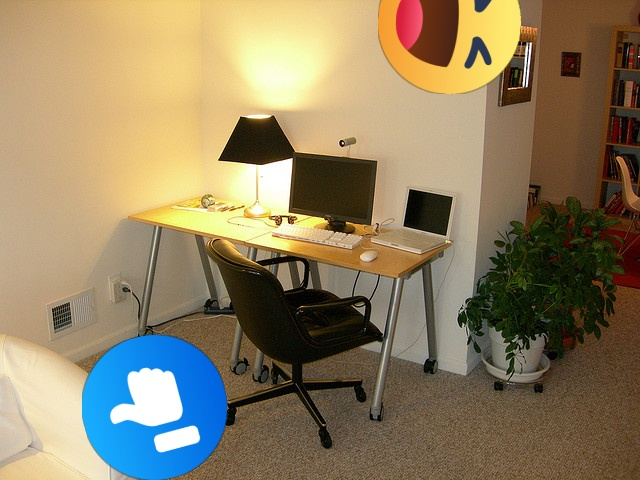haha: (378, 0, 521, 94)
like: (82, 335, 227, 480)
